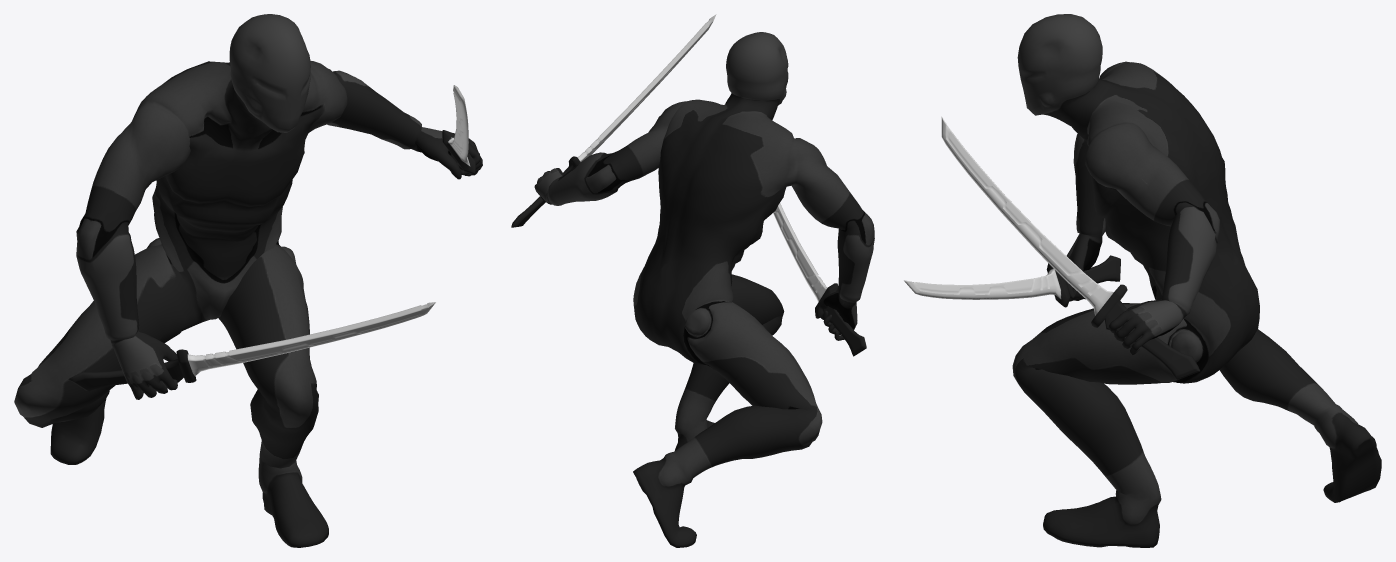
3 renders of one model, left to right at view 1: azimuth 30°, elevation 25°; view 2: azimuth 150°, elevation 25°; view 3: azimuth 270°, elevation 25°, orthographic. The views are drawn at different scales.
Parts seen in each view (by area): view 1: Cyborg_Ninja_Killer, Sword_l001, Sword_l; view 2: Cyborg_Ninja_Killer, Sword_l001, Sword_l; view 3: Cyborg_Ninja_Killer, Sword_l, Sword_l001.
Part boxes in pixels (x1,y1,x2,y2): Cyborg_Ninja_Killer: (14,14,482,547); Sword_l001: (68,302,435,391); Sword_l: (442,85,475,174); Cyborg_Ninja_Killer: (534,32,874,547); Sword_l001: (773,203,866,356); Sword_l: (511,14,716,227); Cyborg_Ninja_Killer: (1012,14,1381,547); Sword_l: (941,116,1200,379); Sword_l001: (904,255,1120,307).
Size of the model in its own units: 112 by 136 by 117.
2 materials, 2 textured.
